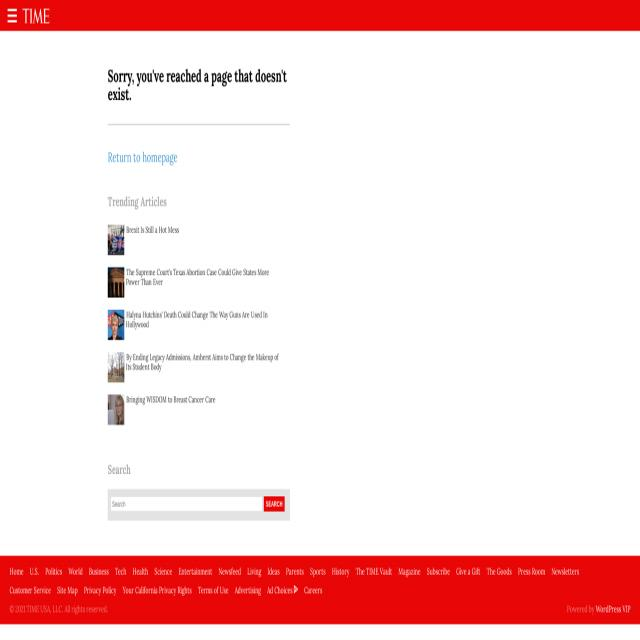button: (108, 267, 124, 298), (108, 225, 124, 255), (108, 310, 124, 340), (108, 352, 124, 382), (108, 395, 124, 425), (22, 8, 50, 23), (294, 585, 298, 594)
field: (111, 498, 262, 512), (264, 497, 284, 511)
